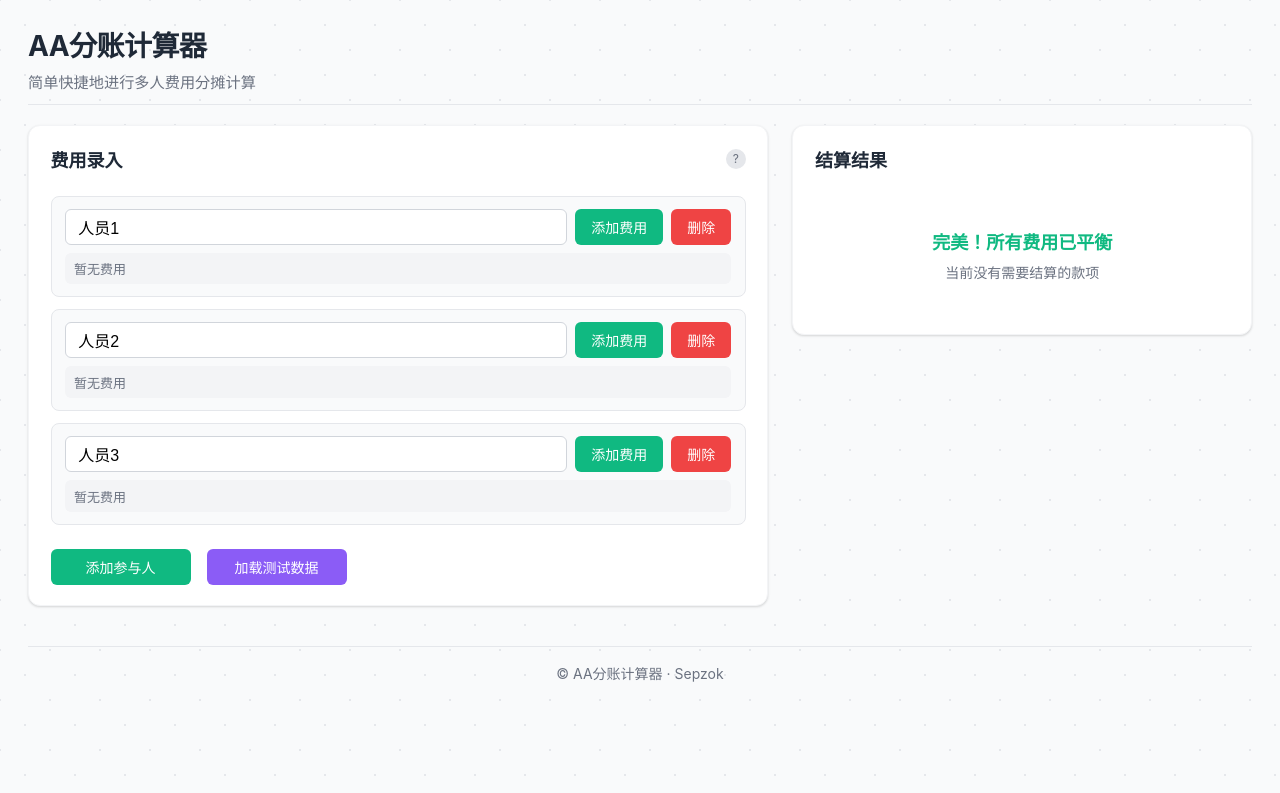
AA分账计算器 - 综合测试 › 应该能够修改费用参与人
The width and height of the screenshot is (1280, 793).
Click the 1st button with class "add-expense-btn" at (619, 227), box [575, 209, 663, 245]
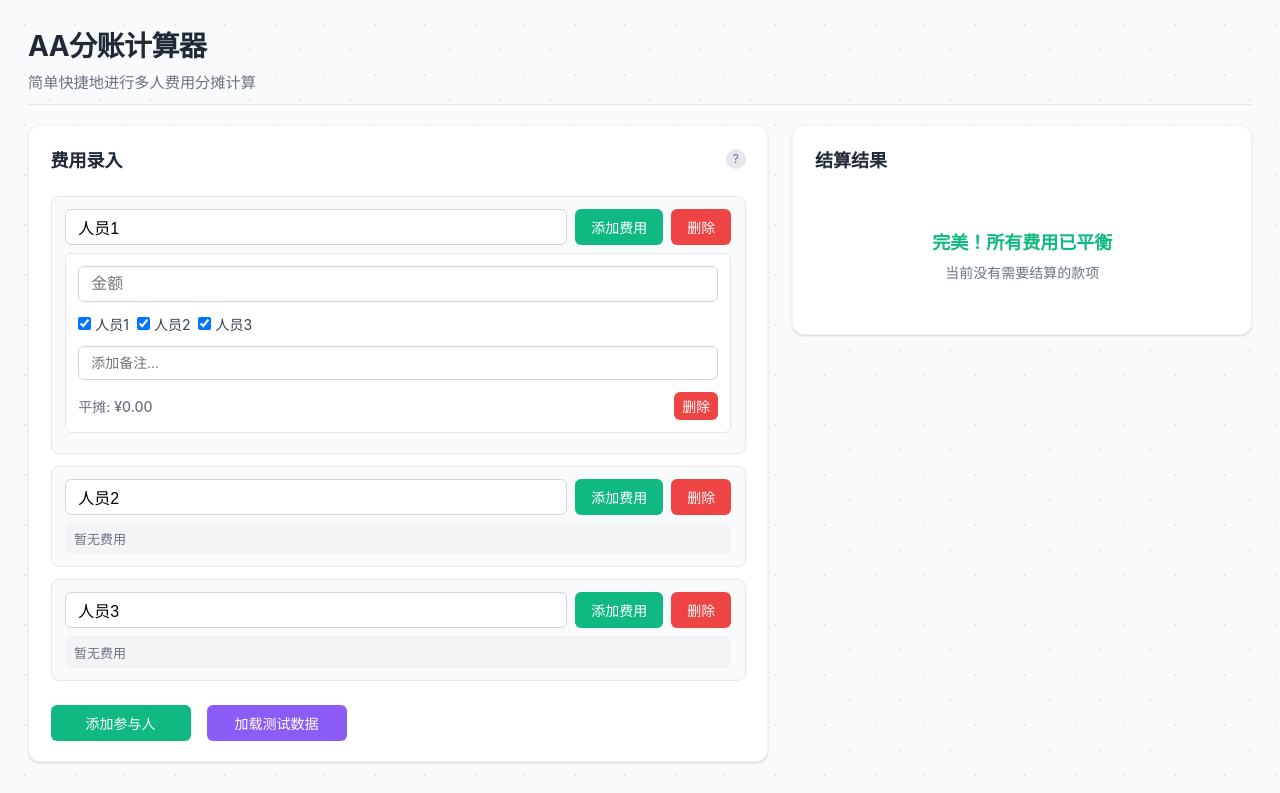
Type "100" into the number field with class "expense-amount" at (398, 284), box [78, 266, 718, 302]
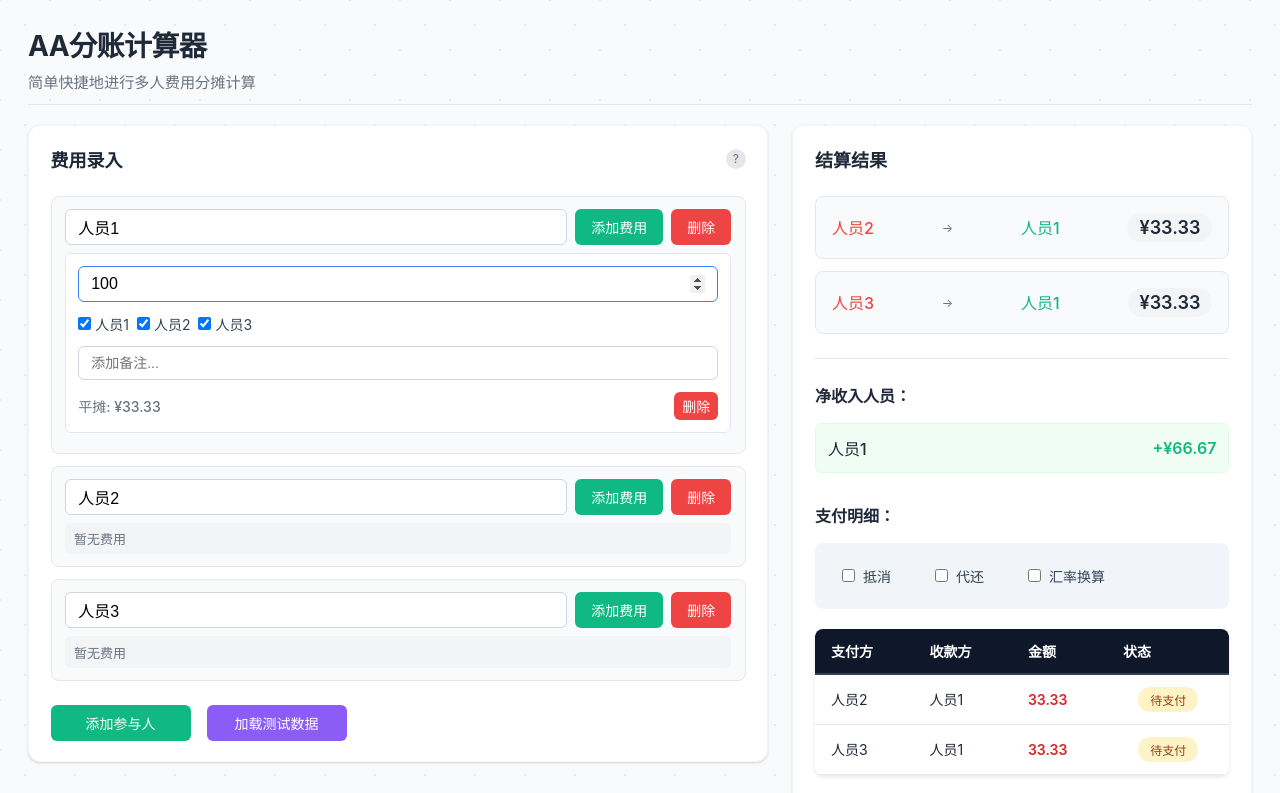
Uncheck the checkbox labelled "人员2" at (144, 324), box [137, 317, 150, 330]
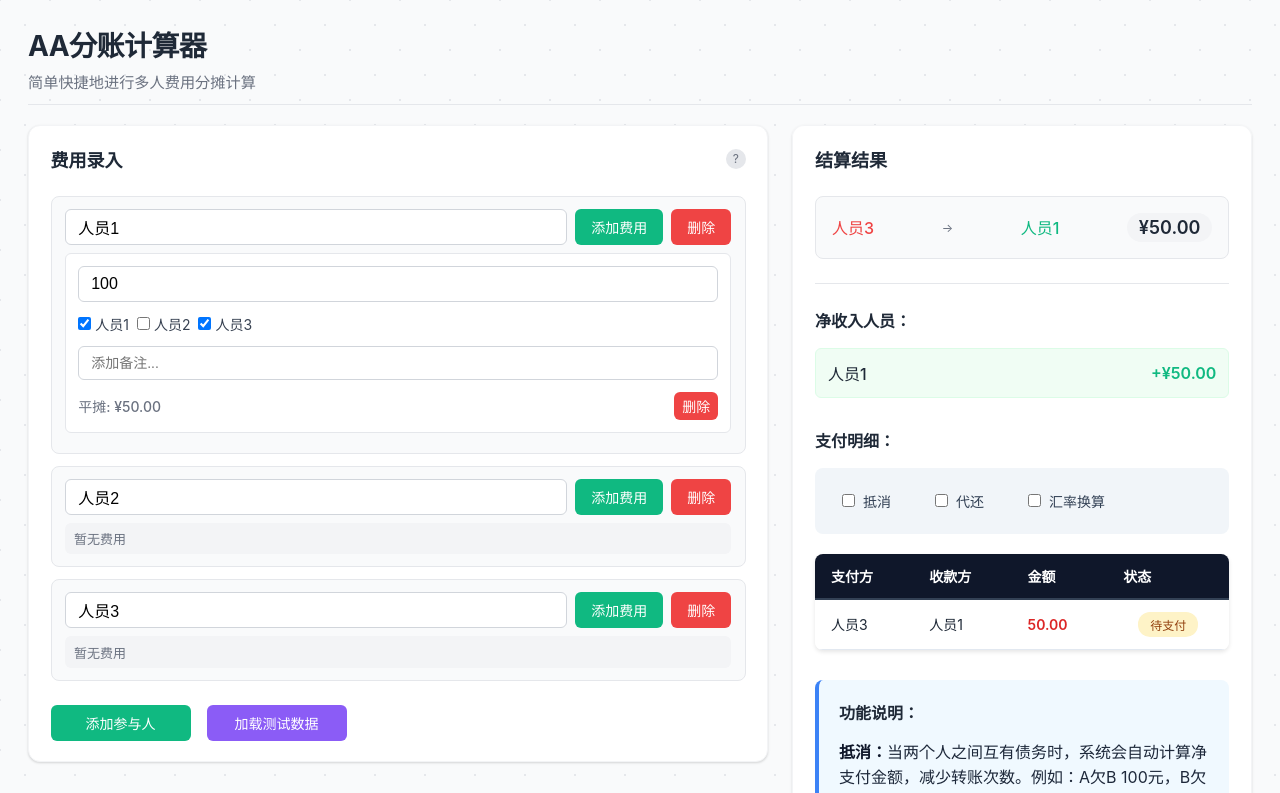
Check: the text with class "split-amount" shows "¥50.00", box [78, 396, 161, 416]
